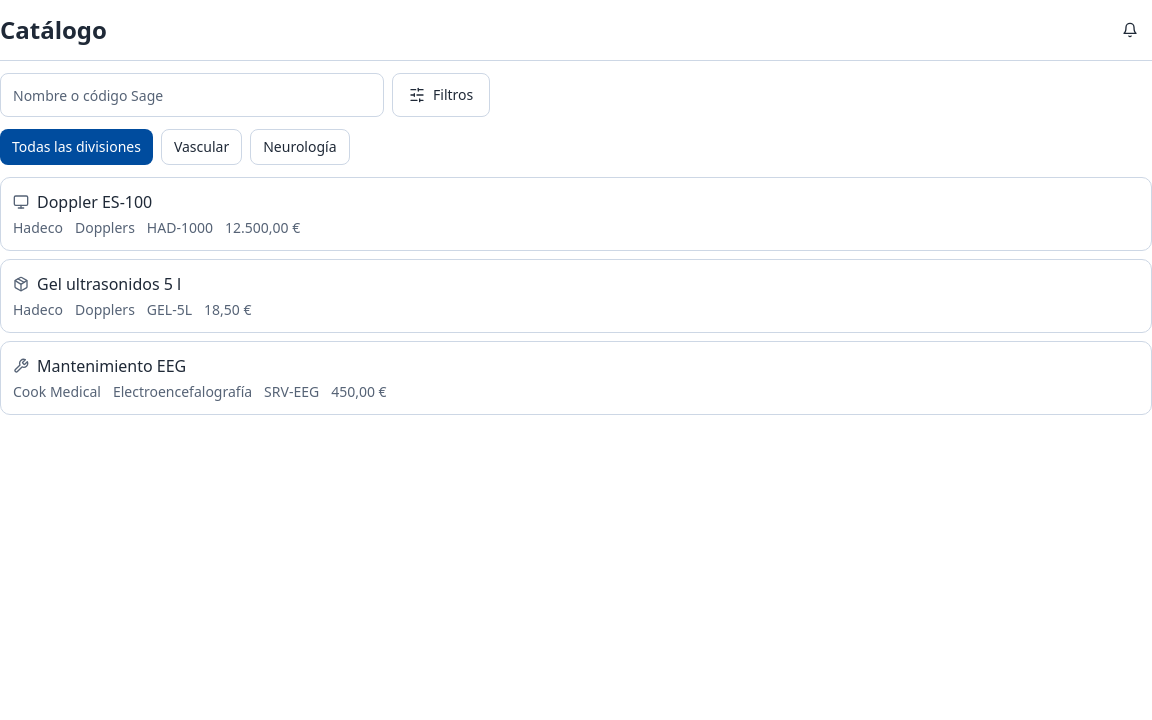
CatalogueListPage › hides the create action from a sales rep and opens a read-only product
Check: the list is shown, box [0,177,1151,415]
Click the button "Doppler ES-100 Hadeco Dopplers HAD-1000 12.500,00 €".
click(38, 214)  # box [0,177,1151,251]
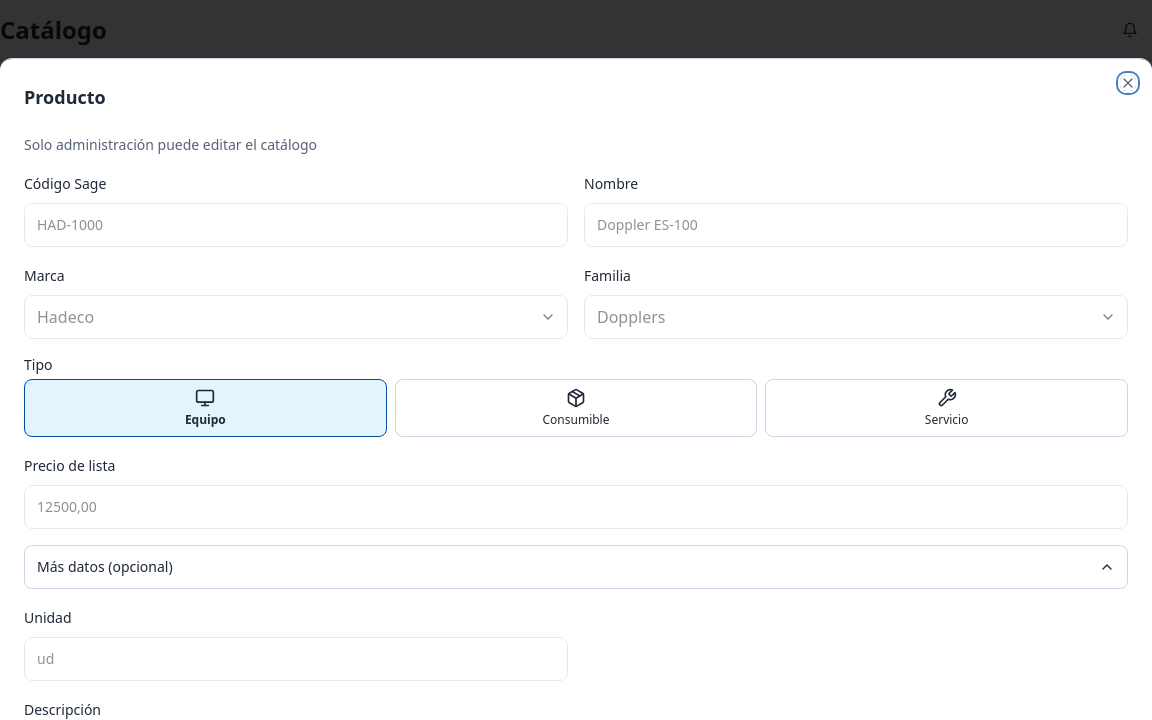
Check: the heading "Producto" is shown, box [24,85,106,109]
Check: the field labelled "Nombre" is disabled, box [584,203,1128,247]
